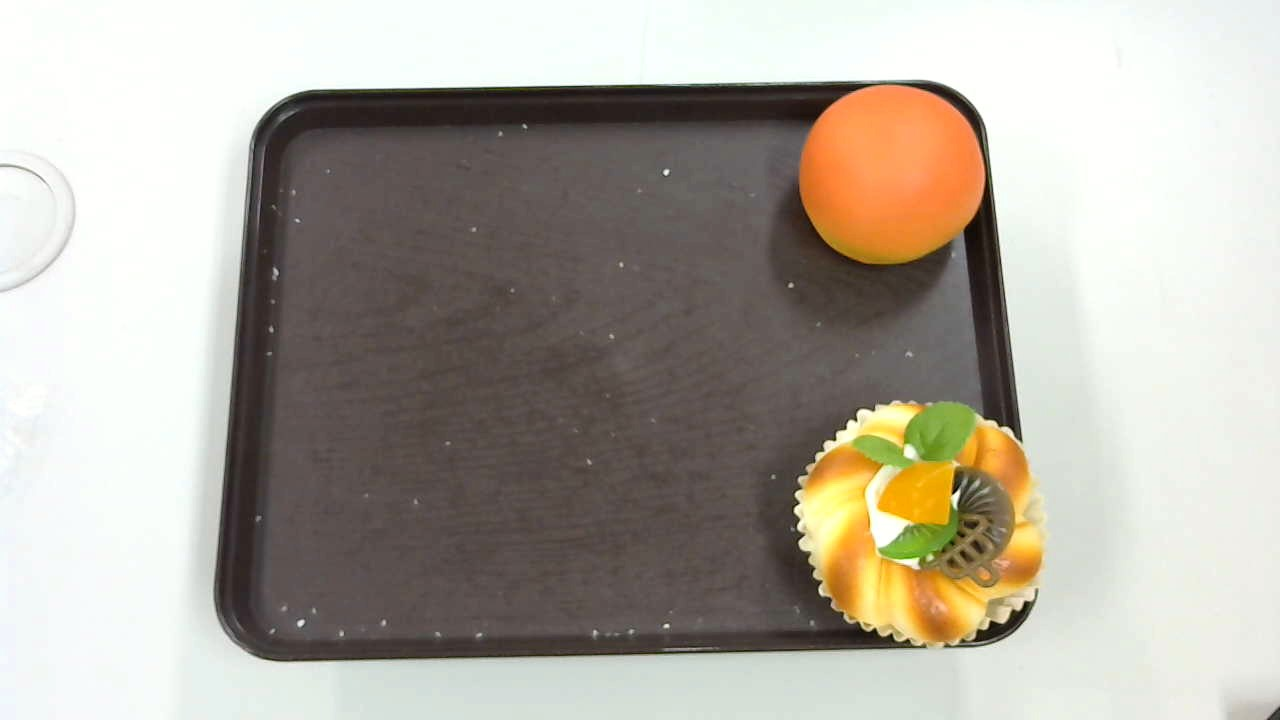bun: (799, 82, 986, 266)
fruit tart: (792, 400, 1051, 649)
